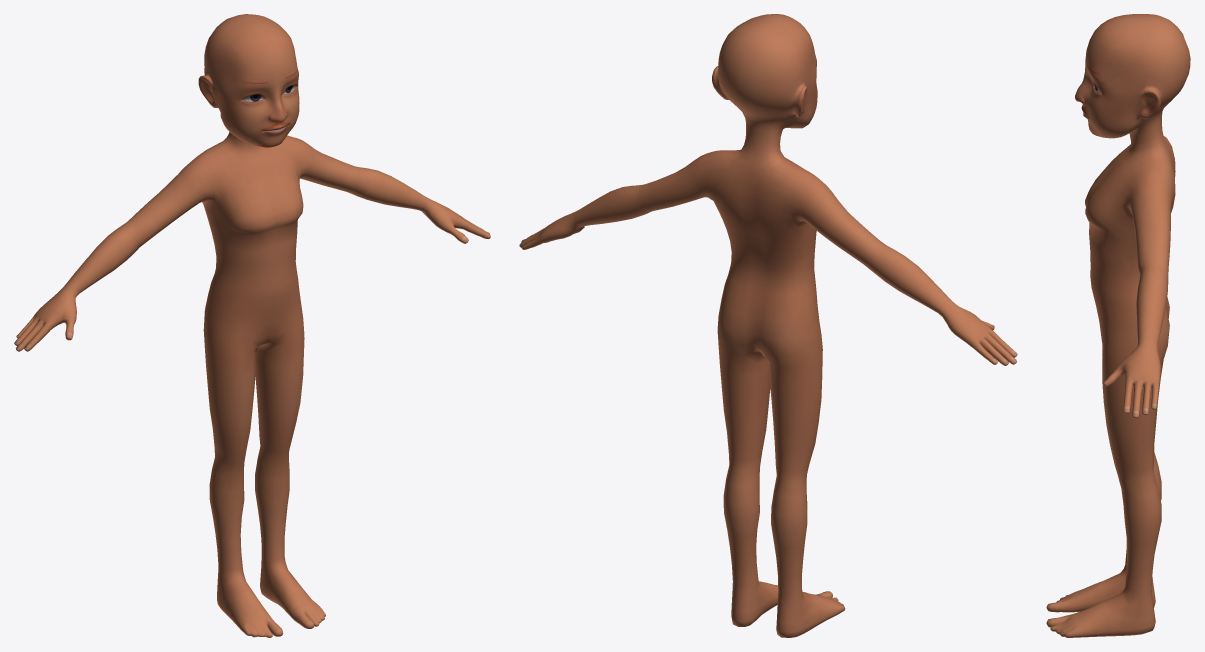
The model's file is frame_0071.glb.
3 views of the same model, side by side, from view 1: azimuth 30°, elevation 25°; view 2: azimuth 150°, elevation 25°; view 3: azimuth 270°, elevation 25° (orthographic). The views are drawn at different scales.
Visible parts, largest first — view 1: frame_0071_head_geo; view 2: frame_0071_head_geo; view 3: frame_0071_head_geo.
Boxes of the visible parts, bbox=[...] form: frame_0071_head_geo: bbox=[14, 14, 490, 637]; frame_0071_head_geo: bbox=[519, 14, 1017, 637]; frame_0071_head_geo: bbox=[1046, 14, 1190, 637].
Size of the model in its own units: 1.28 by 1.5 by 0.3253.
Materials: 3 (3 with a texture image).
